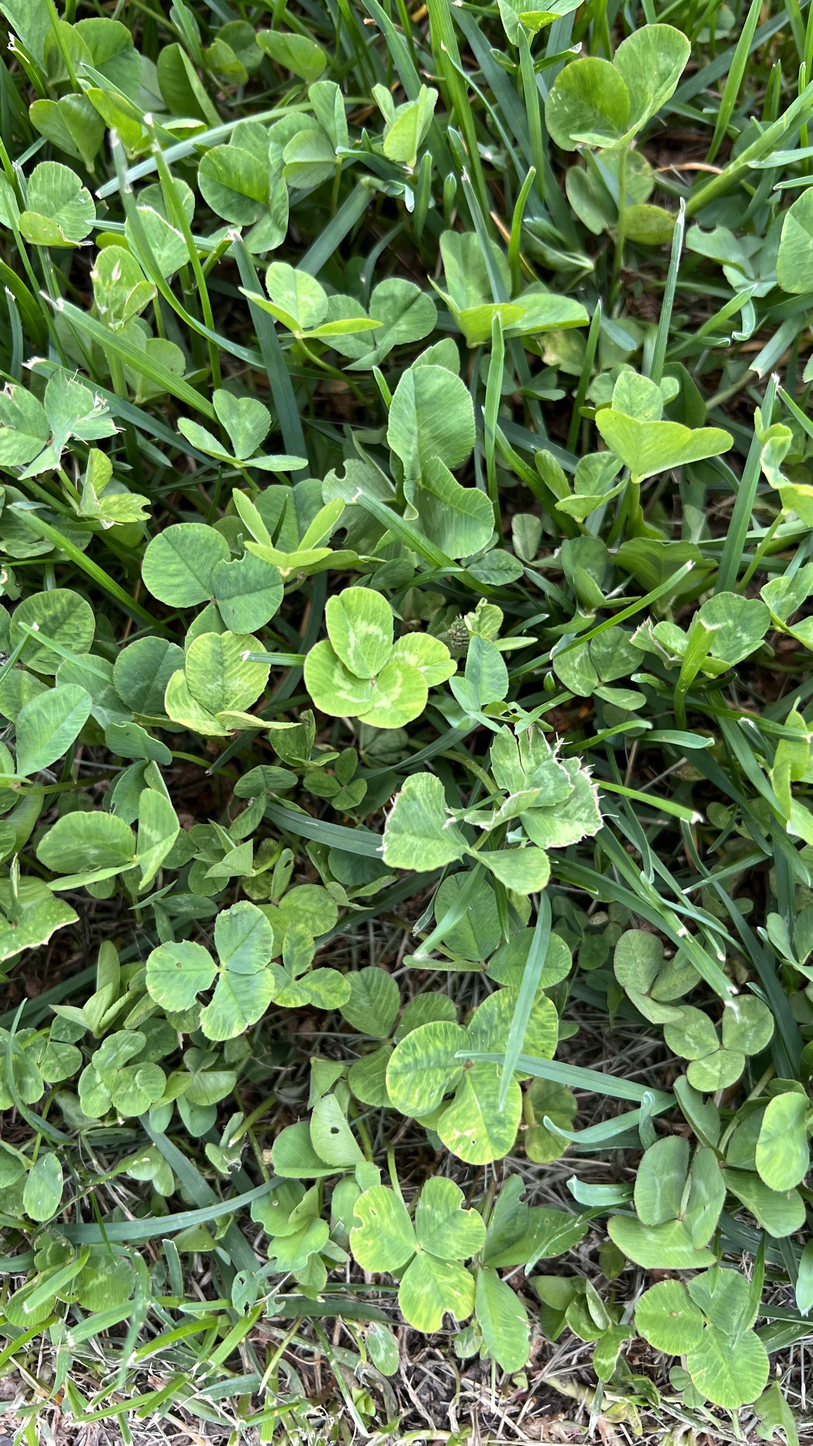4-Leaf-Clovers: (330, 633, 408, 900)
